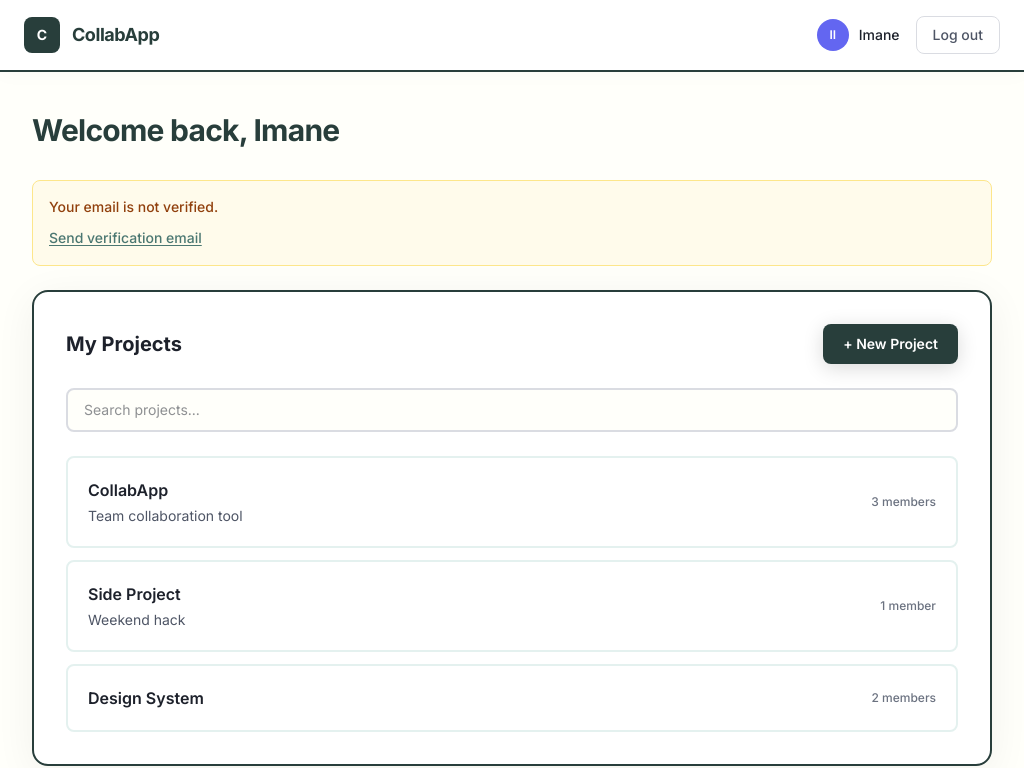
Test case: DashboardPage › opens create project modal
The image size is (1024, 768).
Click the button "+ New Project": (891, 344) x1=823 y1=324 x2=958 y2=364
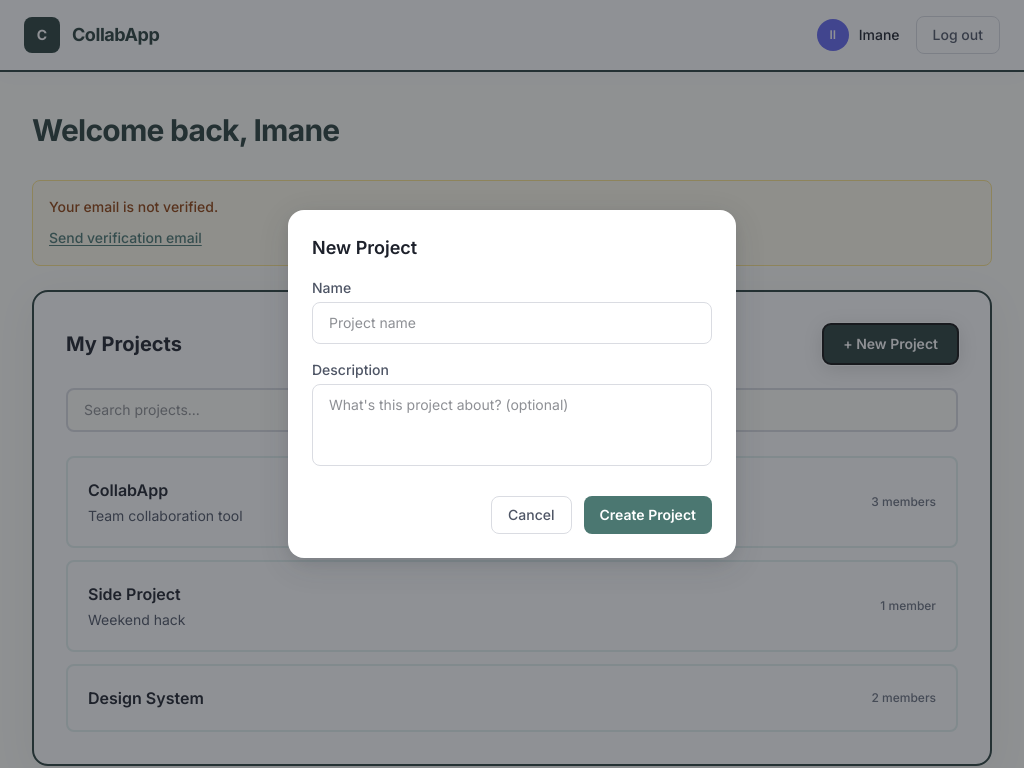
Expected: the heading "New Project" is shown, x1=312 y1=237 x2=417 y2=258
